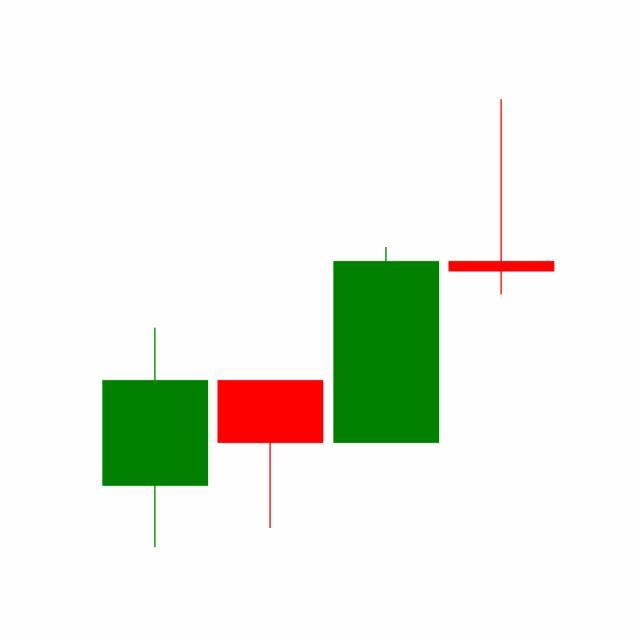Spinning Top: (444, 97, 560, 297)
